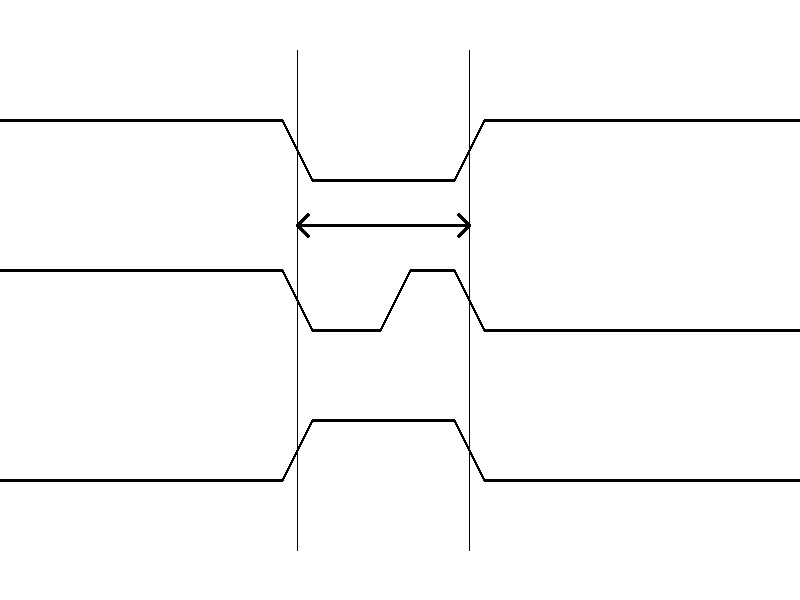double_arrow: (297, 210, 469, 240)
